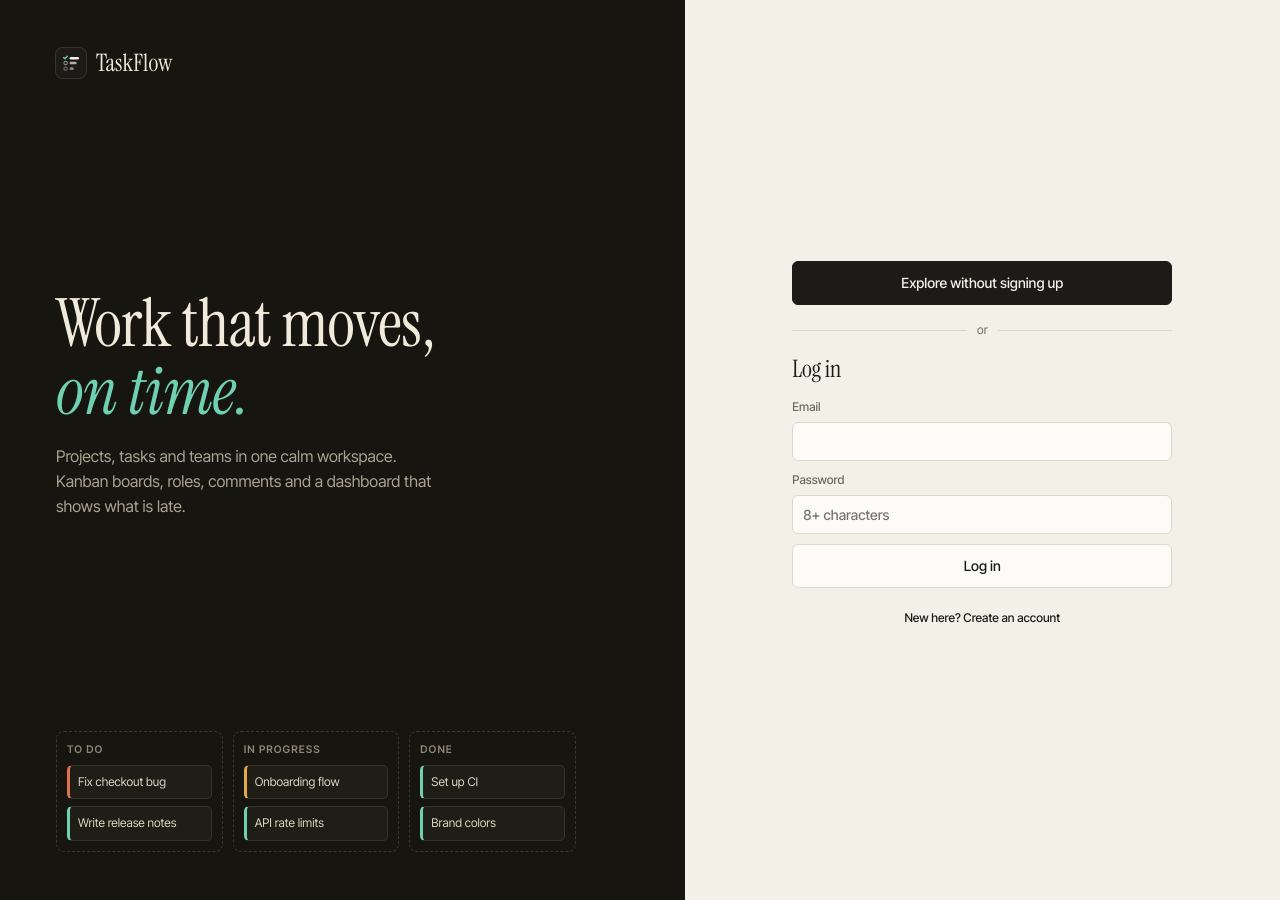
Test case: App › shows the landing page and starts the demo
This screenshot has width=1280, height=900.
Click the button "Explore without signing up".
click(982, 283)  # box [792, 261, 1172, 305]
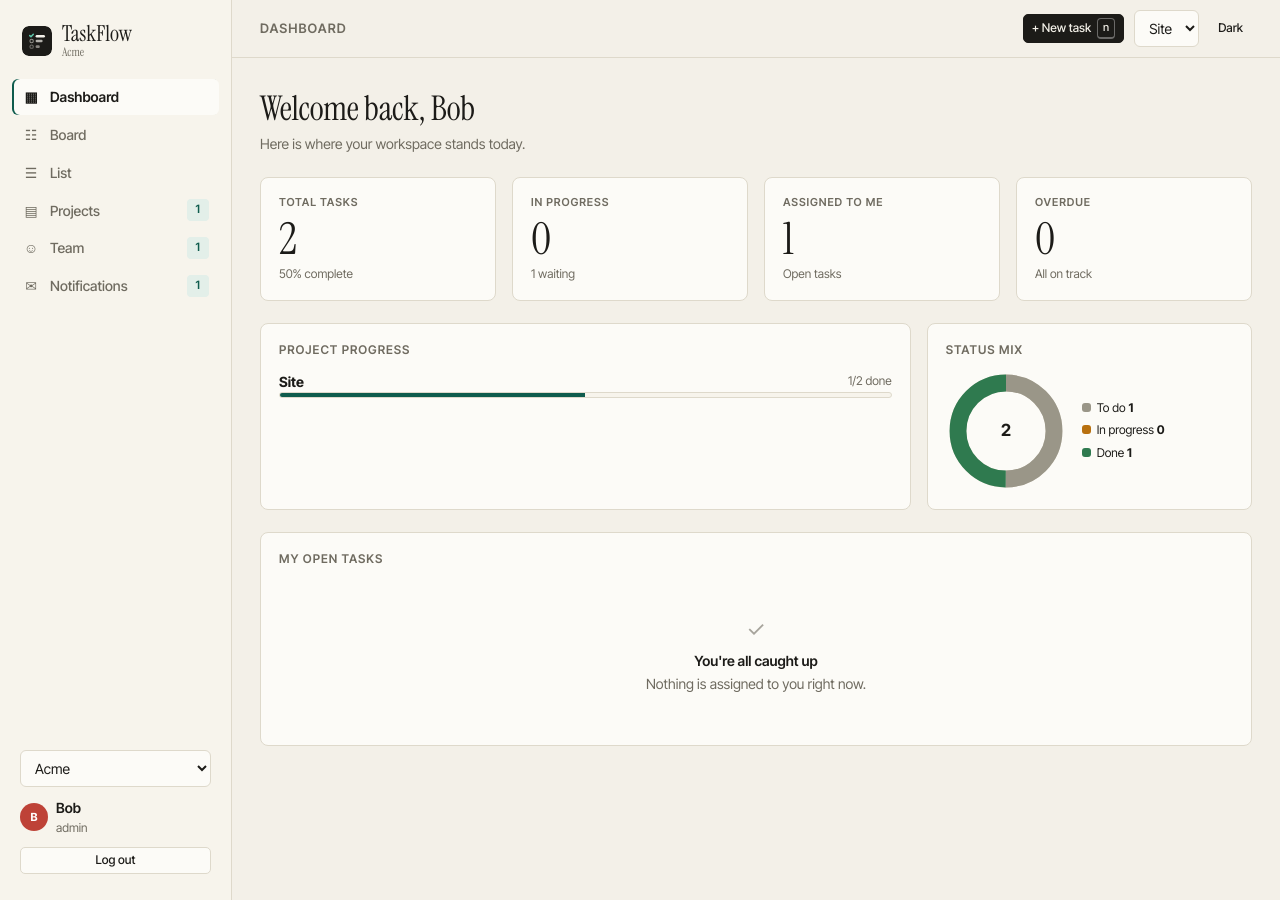
Now the heading "Project progress" is shown, box [279, 342, 410, 357]
